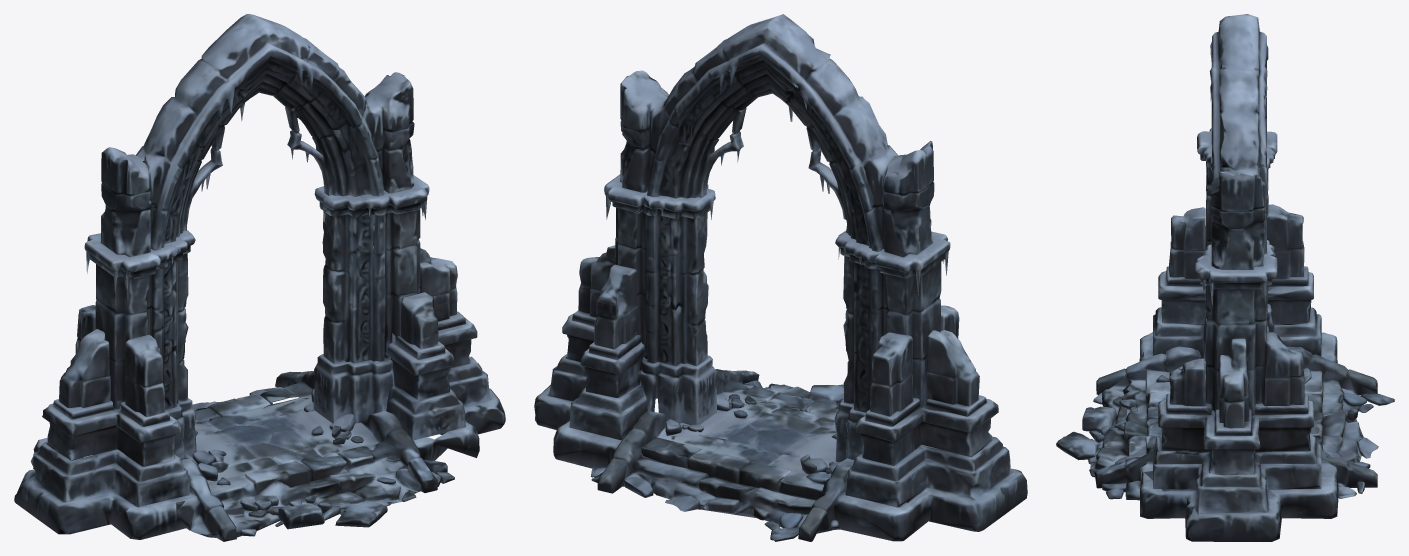
The model's file is archway.glb.
3 views of the same model, side by side, from view 1: azimuth 30°, elevation 25°; view 2: azimuth 150°, elevation 25°; view 3: azimuth 270°, elevation 25° (orthographic). The views are drawn at different scales.
Parts seen in each view (by area): view 1: geometry_0; view 2: geometry_0; view 3: geometry_0.
Boxes of the visible parts, x1,y1,x2,y2 form: geometry_0: [14, 14, 505, 541]; geometry_0: [534, 14, 1027, 541]; geometry_0: [1056, 14, 1394, 541].
Size of the model in its own units: 0.958 by 0.9077 by 0.6577.
Materials: 1 (1 with a texture image).
